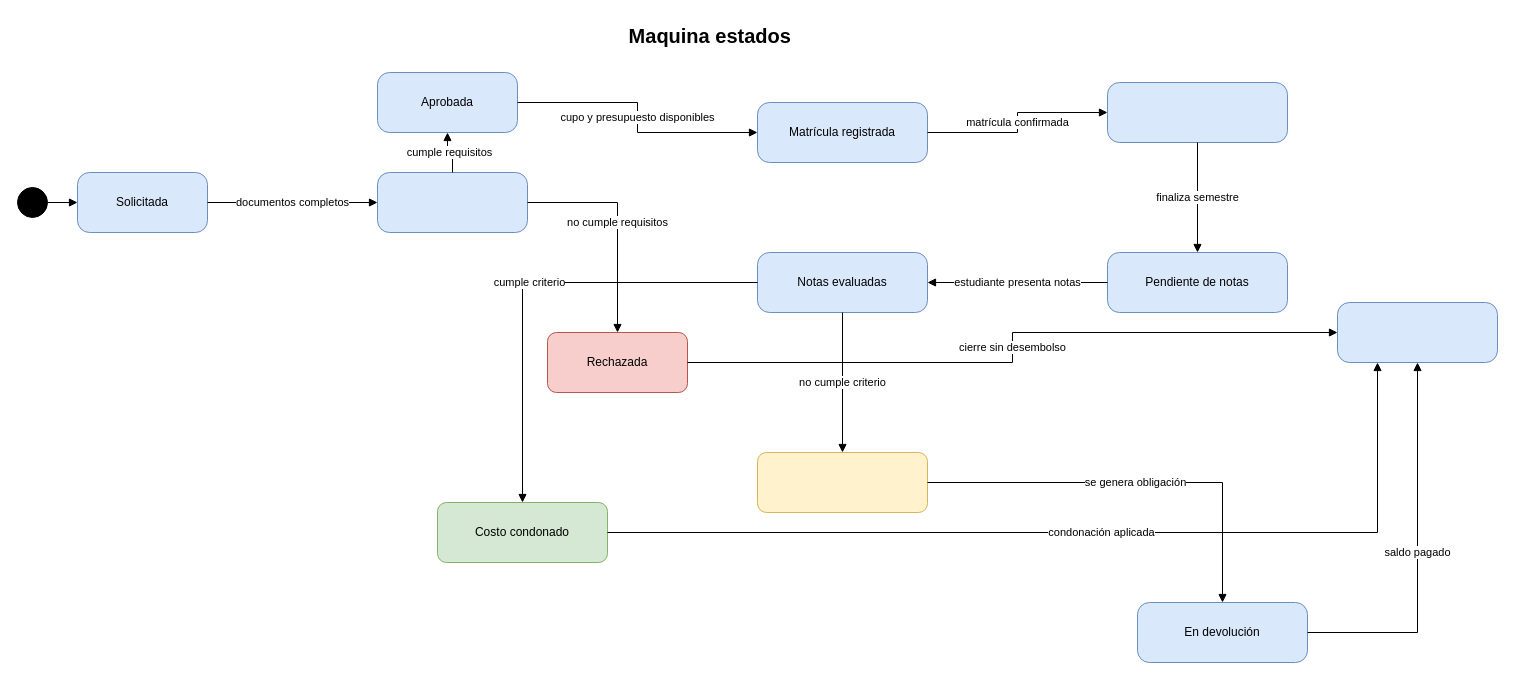
Some shapes in this 1515 by 680 pixel diagram are drawn without their labels. The shapes that lost their labels are listed below. From the top down, each one's centre as x and y in pixels, then its label:
the point at 1197,112: Crédito desembolsado
the point at 452,202: En evaluación
the point at 1417,332: Periodo cerrado
the point at 842,482: Pago requerido
